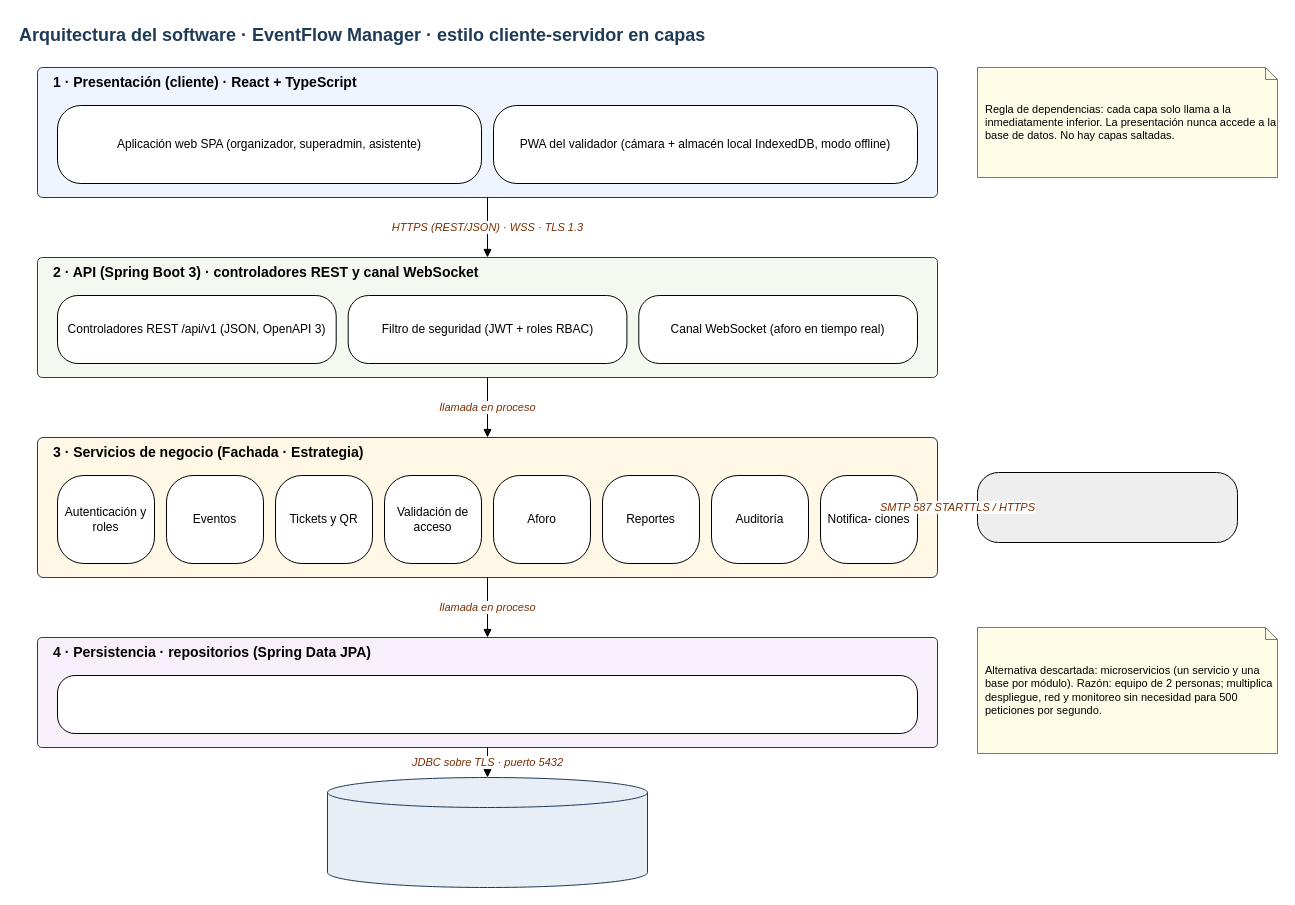
Some shapes in this 1295 by 905 pixel diagram are drawn without their labels. Here are the shapes that lost their labels. From the top down, the centre of each, then its label:
point (1107, 507): Servicios externos Correo (SMTP) · SMS
point (487, 704): Repositorios por agregado (Usuario, Evento, Ticket, Validación, Bitácora)
point (487, 832): PostgreSQL 16 (primario + réplica en espera)
